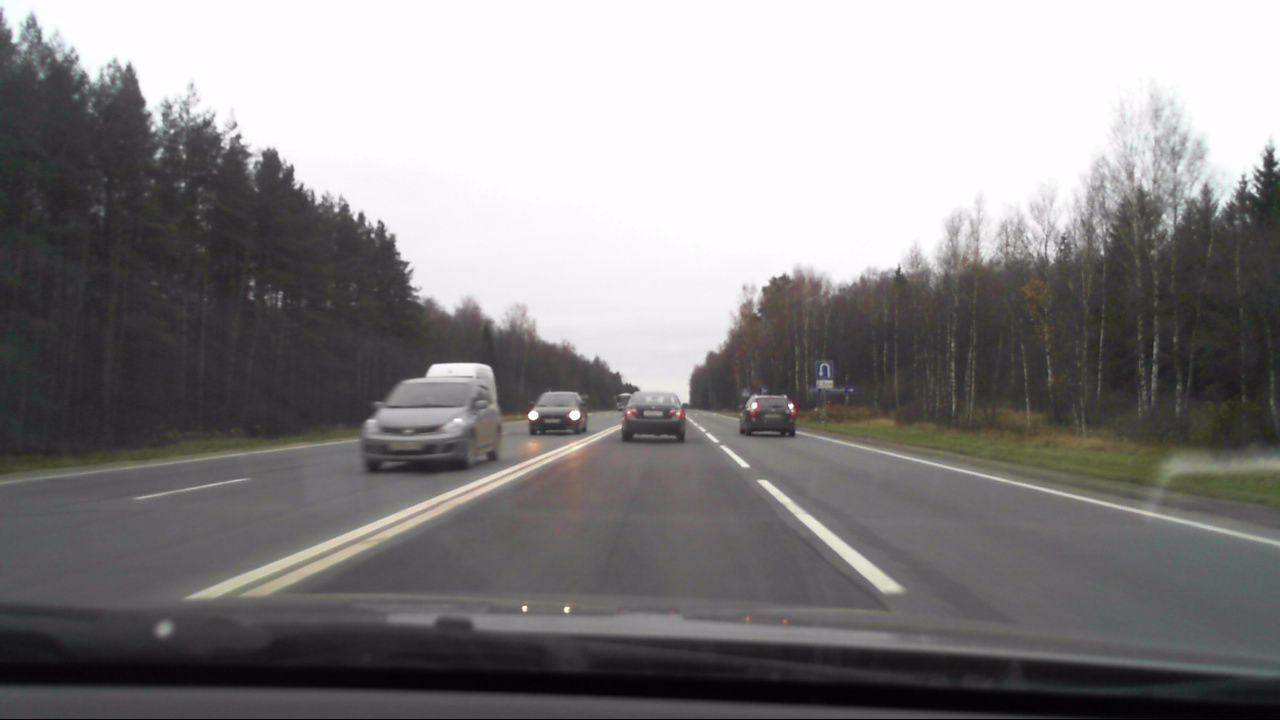U-turn: (816, 361, 833, 379)
